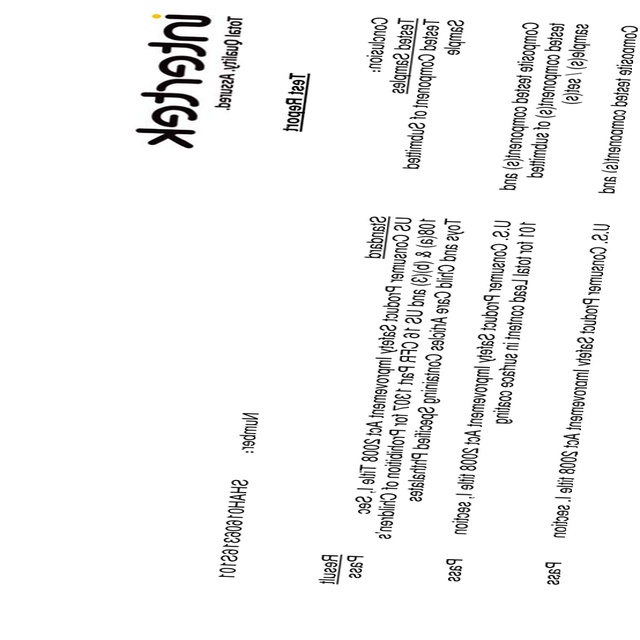intertek: (135, 8, 213, 153)
